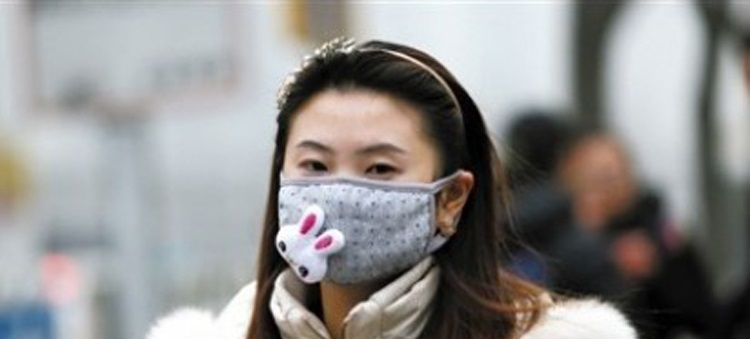face_mask: (282, 95, 438, 285)
